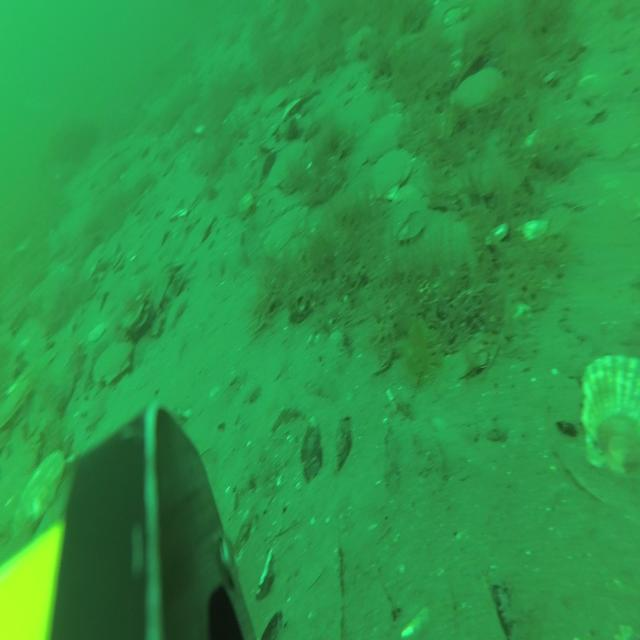scallop: (580, 349, 640, 479), (15, 450, 69, 536), (451, 60, 503, 112), (263, 201, 309, 259), (371, 144, 414, 203), (89, 338, 135, 390), (366, 107, 407, 159)
